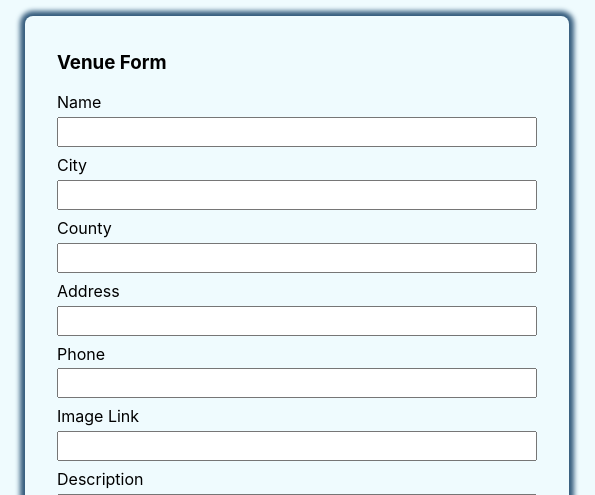
Test case: <CreateVenue /> › displays error message when special character is entered in phone field
The width and height of the screenshot is (595, 495).
In the field with test id "venue-phone-input": [297, 383] box [57, 368, 537, 398], type "djd8327b"
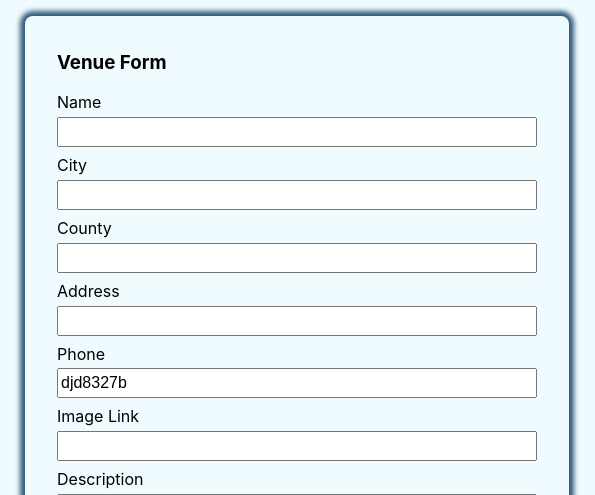
Leave the field with test id "venue-phone-input", box [57, 368, 537, 398]
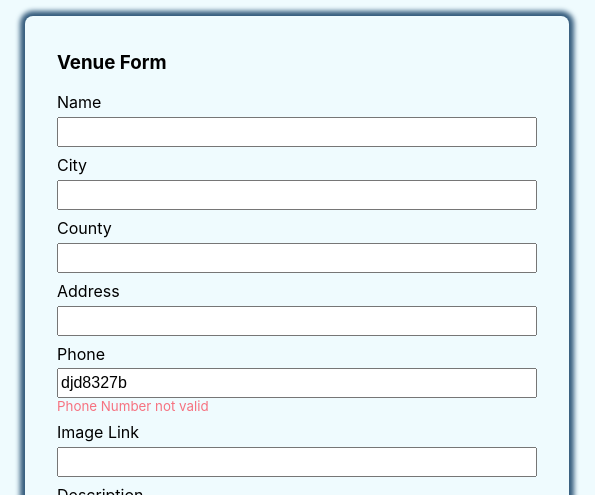
Expected: the text with test id "venue-phone-input-error" reads "Phone Number not valid", [57, 398, 209, 414]
